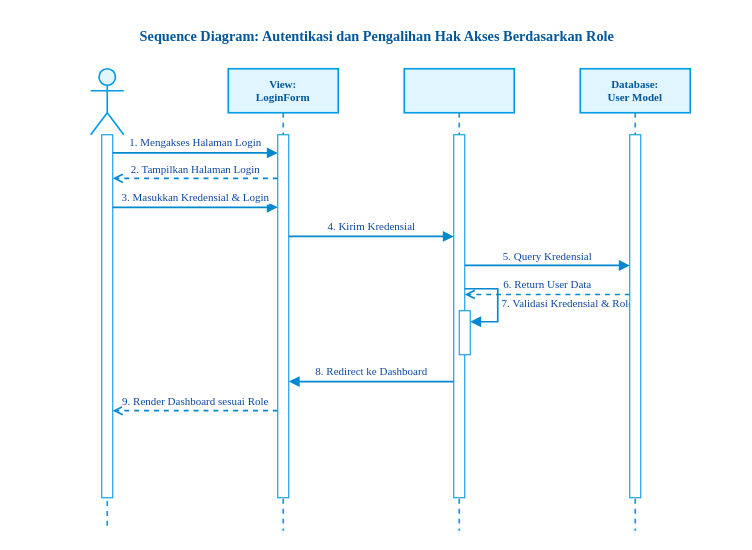
This 752x550 diagram has some shape labels left out. Each missing label, with the box of its shape:
Component: AuthLivewire: (403, 67, 515, 531)
Pengguna (Admin/Logistik): (89, 67, 124, 531)
